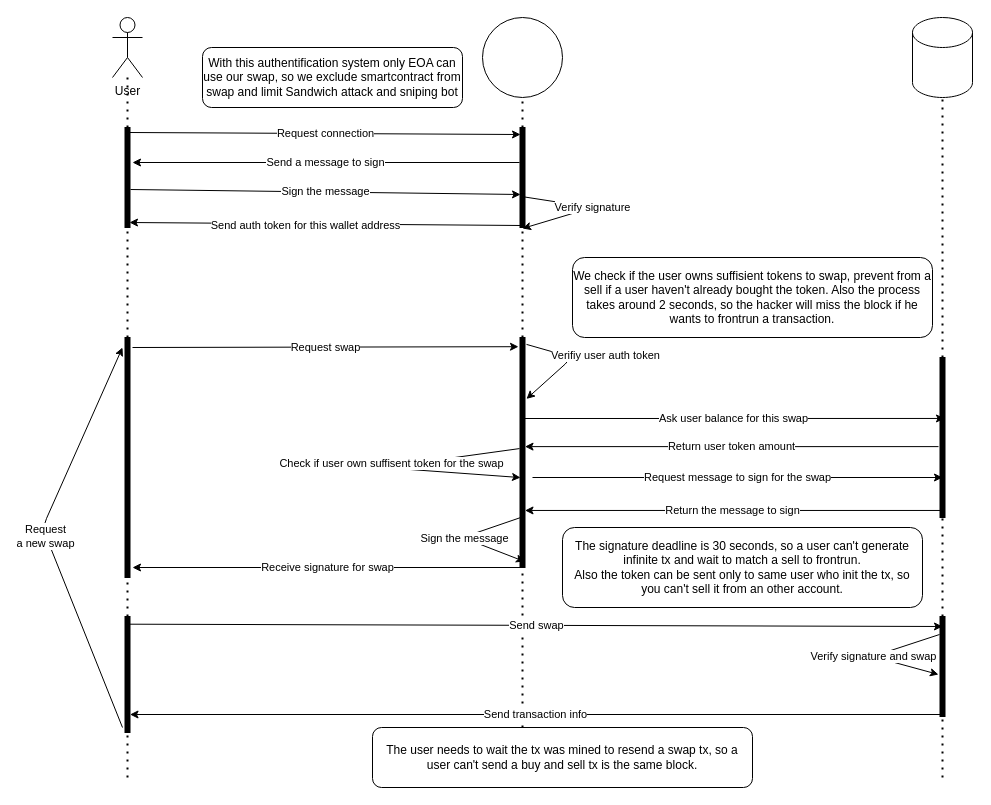
Some shapes in this 991 by 805 pixel diagram are drawn without their labels. The centre of each missing label's shape, as x and y in pixels:
App: the point at 522,57
Blockchain: the point at 942,57
